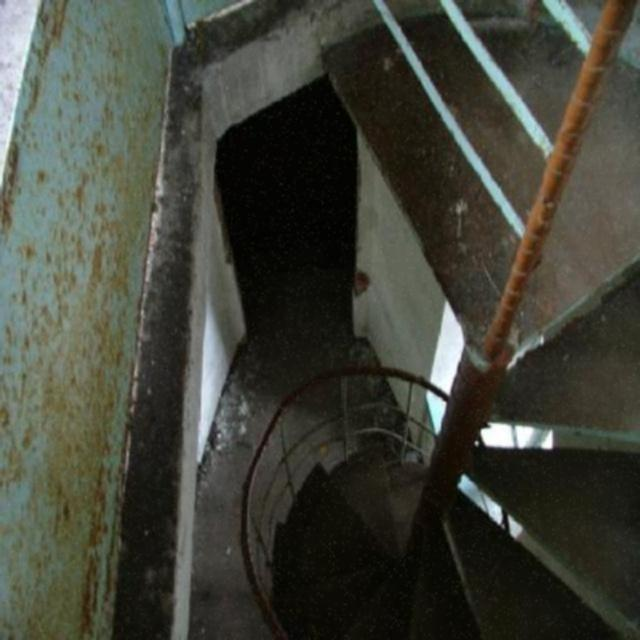stair: (271, 254, 640, 640)
